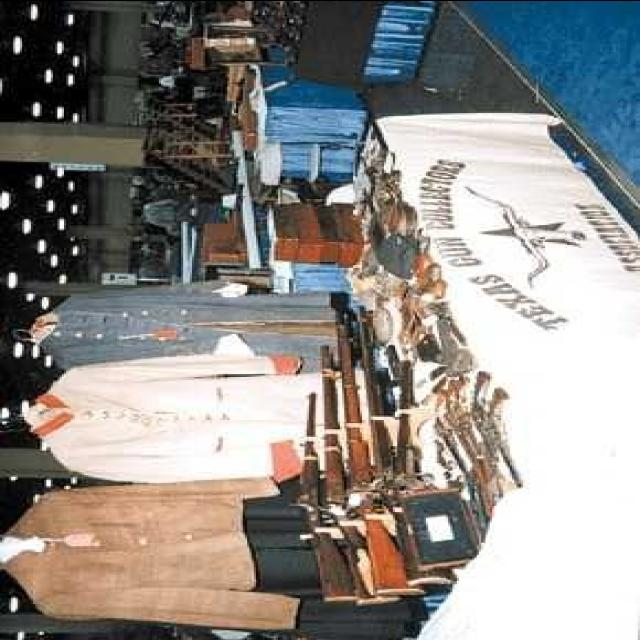heavyweapon: (282, 387, 368, 615)
